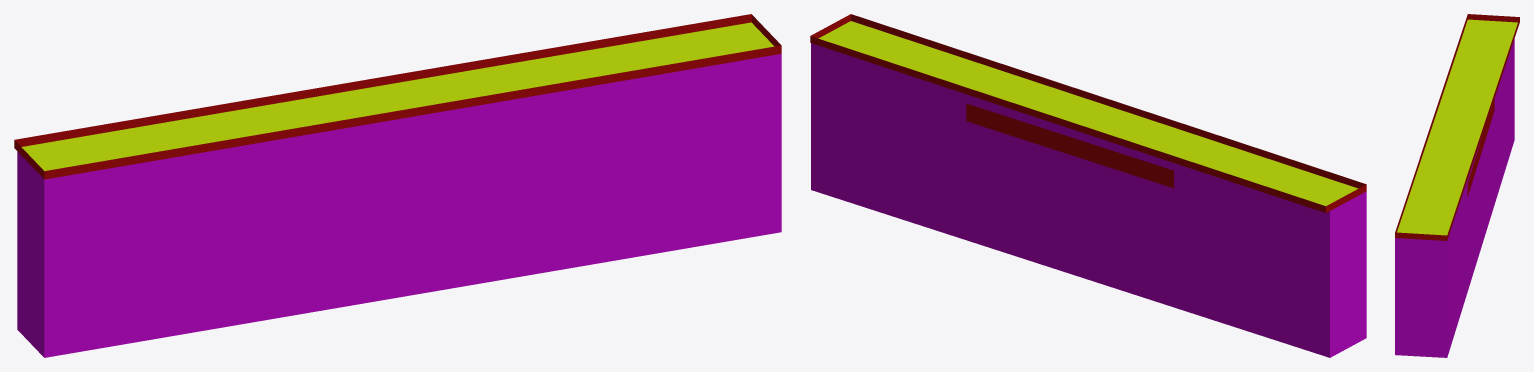
Rendered from rmc_147.glb.
3 renders of one model, left to right at view 1: azimuth 30°, elevation 25°; view 2: azimuth 150°, elevation 25°; view 3: azimuth 270°, elevation 25°, orthographic. The views are drawn at different scales.
Parts seen in each view (by area): view 1: rmc_147; view 2: rmc_147; view 3: rmc_147.
Boxes of the visible parts, x1,y1,x2,y2 form: rmc_147: [14, 14, 781, 357]; rmc_147: [810, 14, 1366, 357]; rmc_147: [1395, 14, 1519, 357].
Size of the model in its own units: 30.08 by 7.77 by 7.16.
